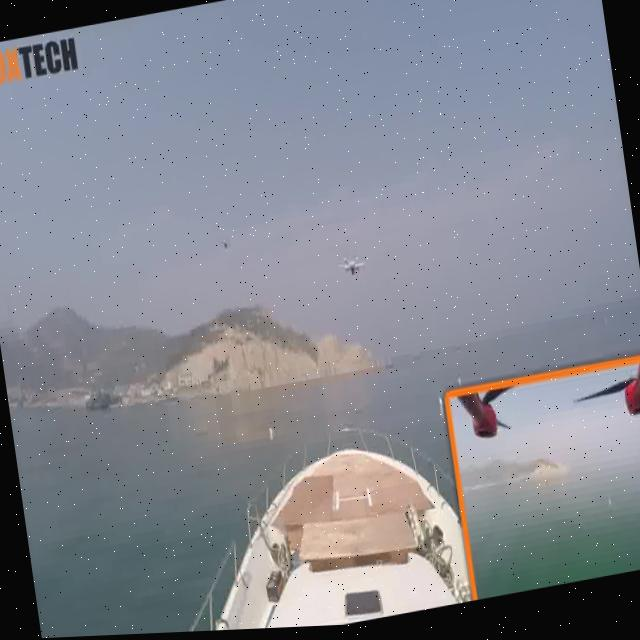drone: (334, 241, 371, 295)
